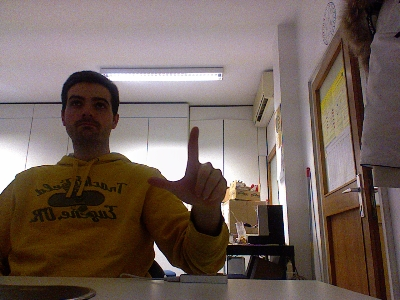枪: (145, 125, 227, 207)
